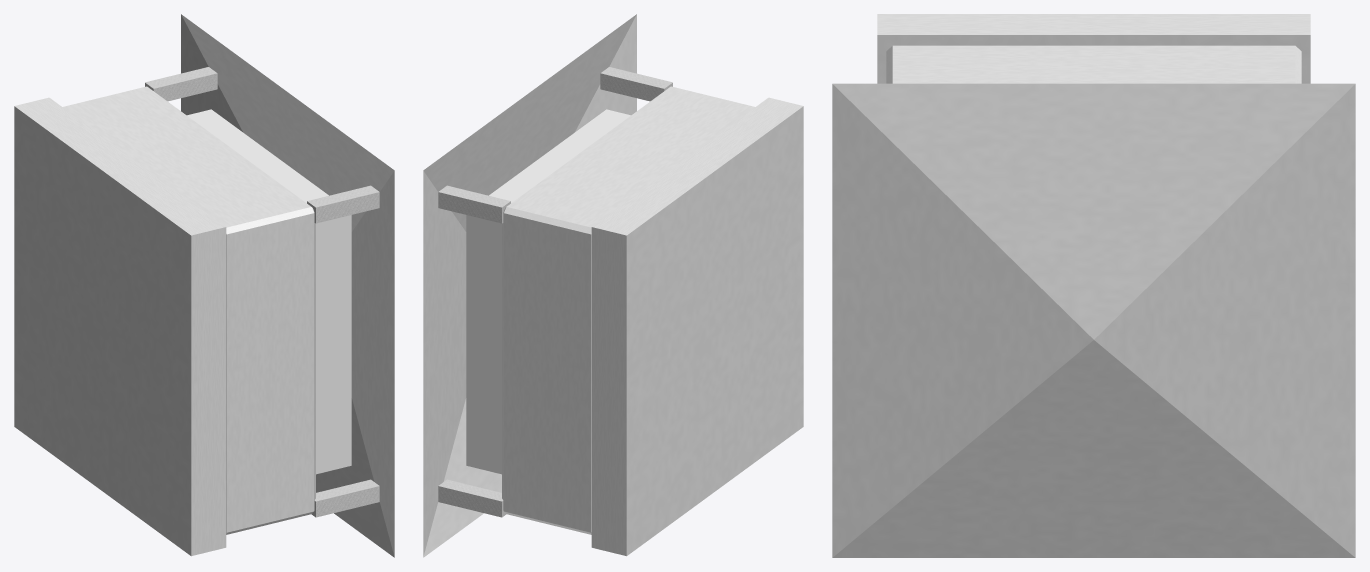
Rendered from deckpostcaplight.obj.
3 views of the same model, side by side, from view 1: azimuth 30°, elevation 25°; view 2: azimuth 150°, elevation 25°; view 3: azimuth 270°, elevation 25° (orthographic). The views are drawn at different scales.
Parts seen in each view (by area): view 1: Base, Metal, Light0, Trim; view 2: Base, Metal, Light0, Trim; view 3: Metal, Base.
Boxes of the visible parts, bbox=[...] form: Base: bbox=[14, 97, 226, 556]; Metal: bbox=[63, 14, 394, 557]; Light0: bbox=[187, 109, 351, 474]; Trim: bbox=[145, 67, 379, 517]; Base: bbox=[591, 97, 803, 556]; Metal: bbox=[423, 14, 754, 557]; Light0: bbox=[466, 109, 630, 474]; Trim: bbox=[438, 67, 672, 517]; Metal: bbox=[832, 45, 1355, 557]; Base: bbox=[877, 14, 1310, 83].
Size of the model in its own units: 0.34 by 0.58 by 0.58.
